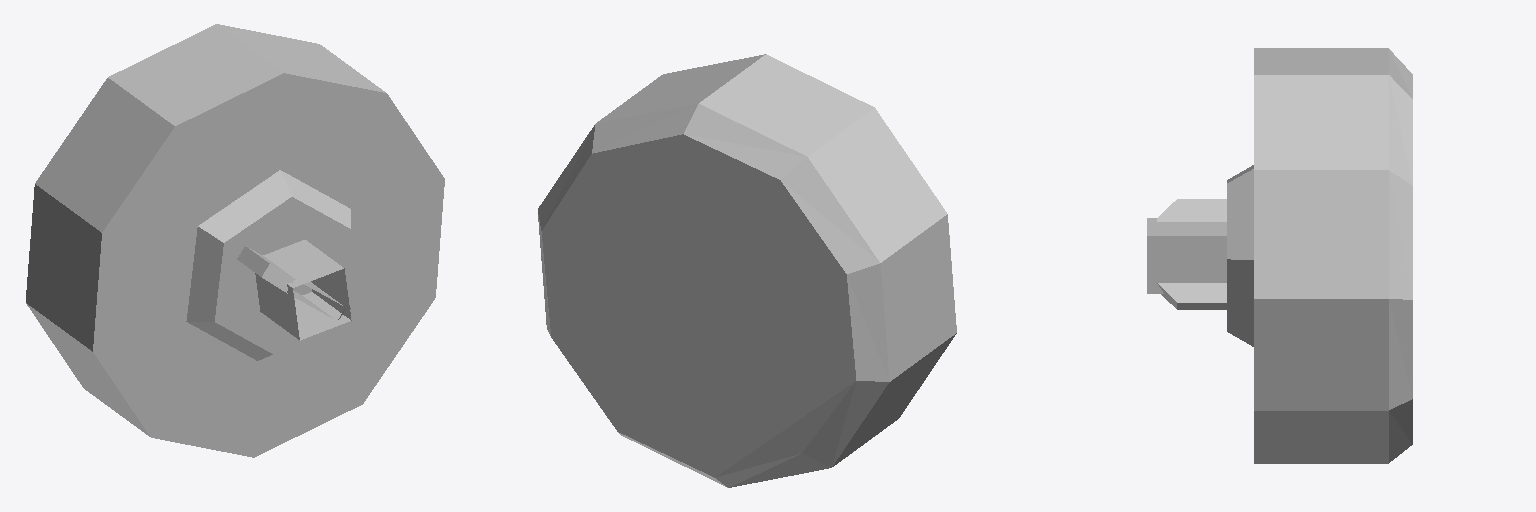
File: wheel42.obj
3 renders of one model, left to right at view 1: azimuth 30°, elevation 25°; view 2: azimuth 150°, elevation 25°; view 3: azimuth 270°, elevation 25°, orthographic.
Parts seen in each view (by area): view 1: wheel_low_textures; view 2: wheel_low_textures; view 3: wheel_low_textures.
Boxes of the visible parts, x1,y1,x2,y2 form: wheel_low_textures: [26, 24, 444, 457]; wheel_low_textures: [538, 54, 956, 487]; wheel_low_textures: [1147, 48, 1412, 463].
Bounding box in the file's own units: 1.52 × 1.56 × 0.9907.